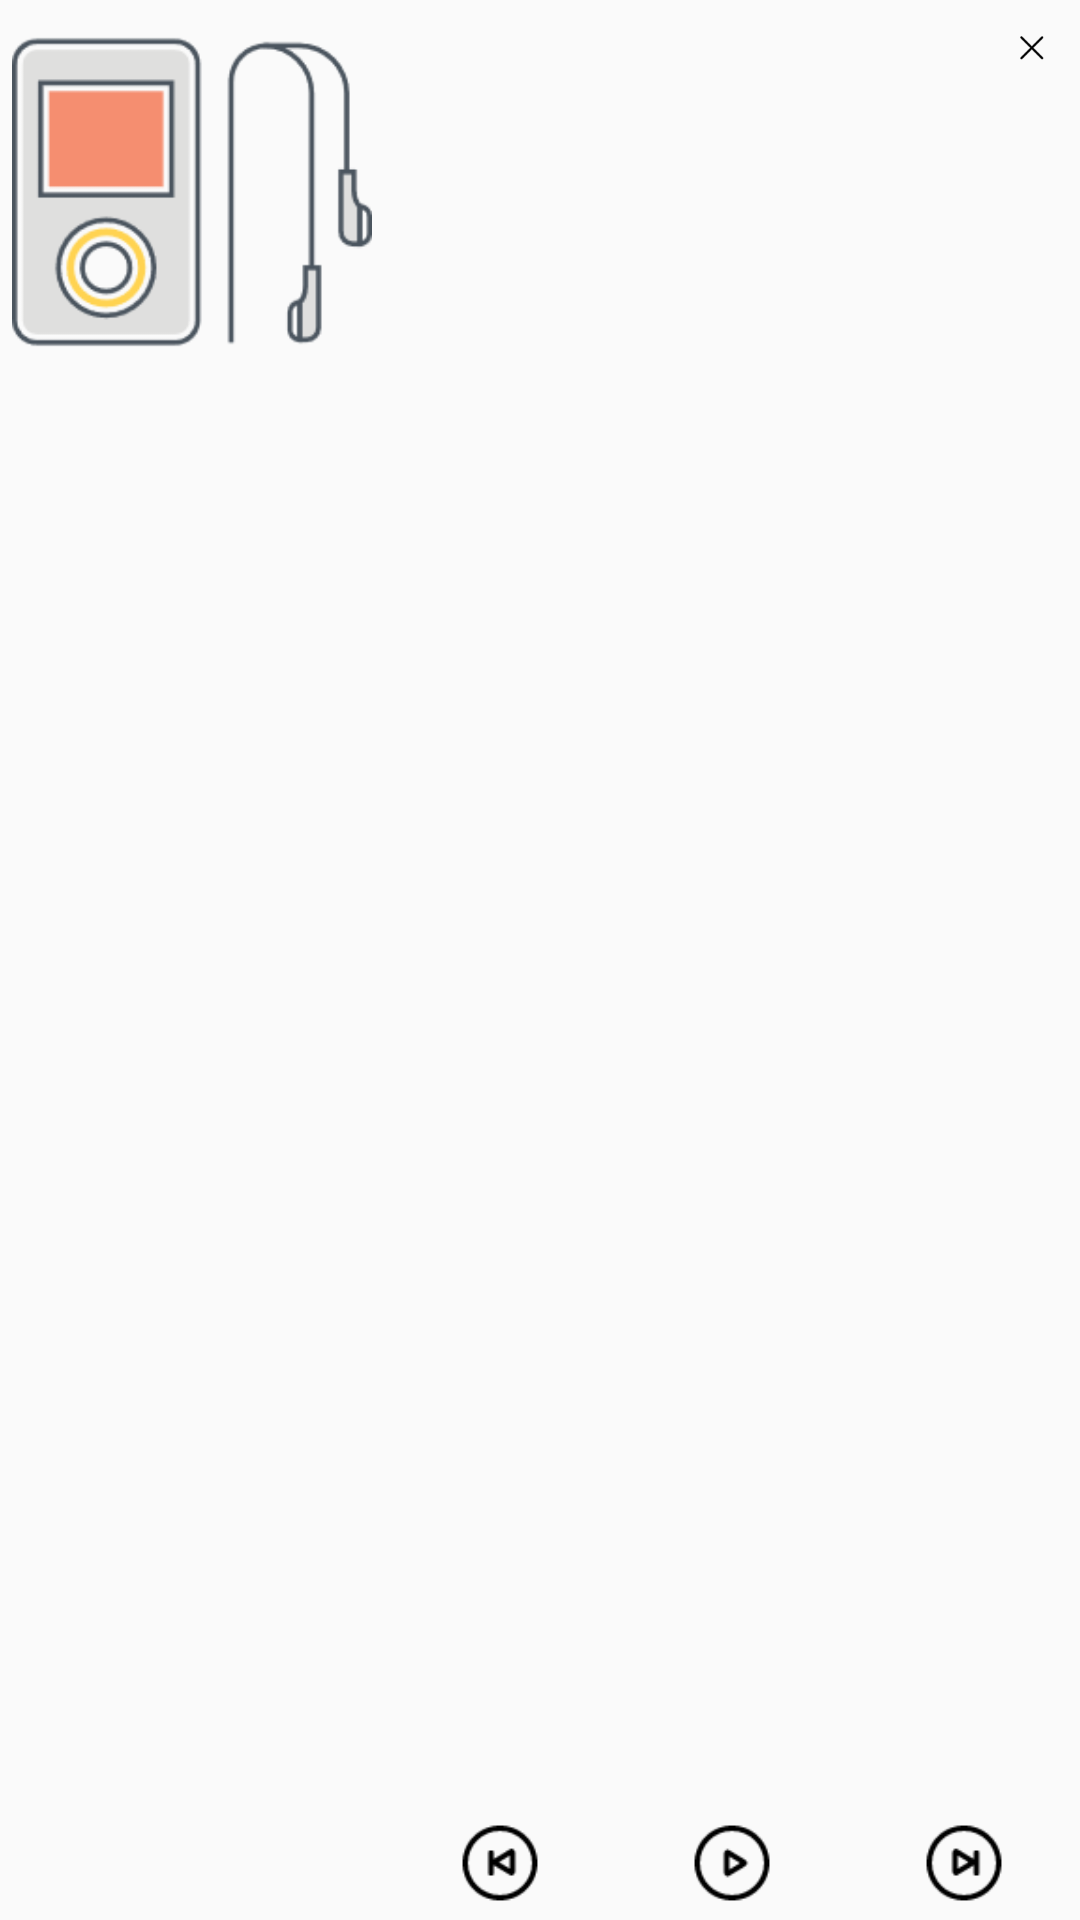

Icons on this 1080px x 1920px Android screen, each with its box as (x1, y1, x2, y2):
next: (926, 1825, 1002, 1901)
notification close: (1020, 36, 1044, 60)
notification previous: (462, 1825, 538, 1901)
play: (694, 1825, 770, 1901)
player: (12, 38, 372, 346)
